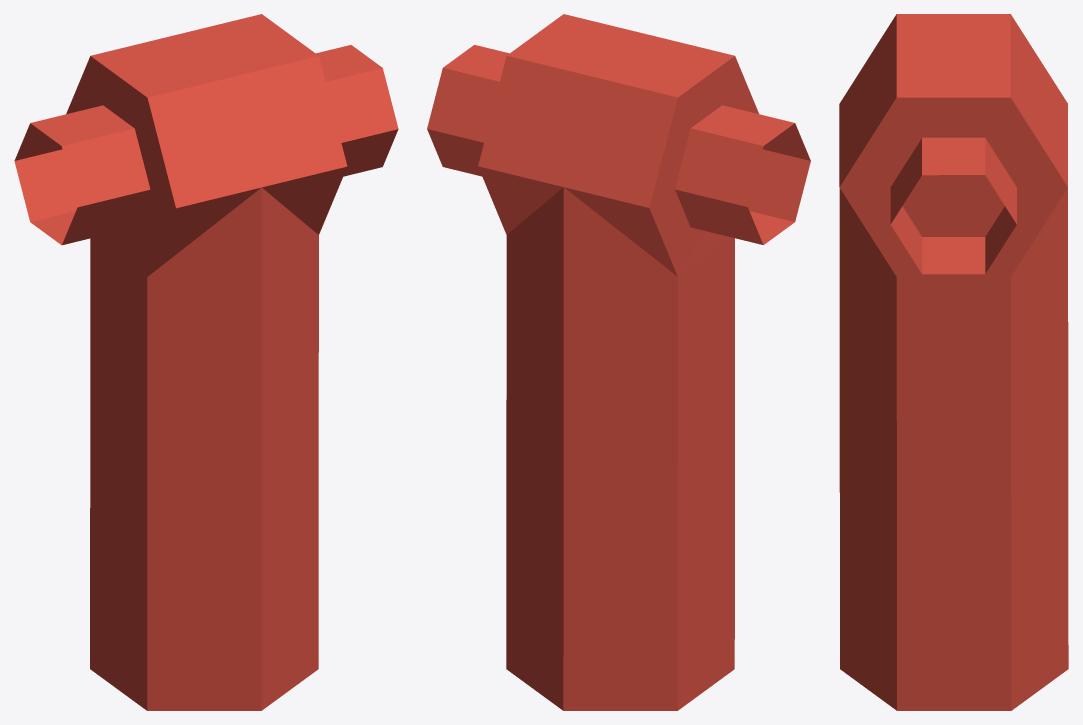
Rendered from SM_Telehandler_Arm_Piston_End_A.fbx.
The picture shows the model from 3 angles, left to right: view 1: azimuth 30°, elevation 25°; view 2: azimuth 150°, elevation 25°; view 3: azimuth 270°, elevation 25°; orthographic projection.
Parts seen in each view (by area): view 1: SM_Telehandler_Arm_Piston_End_A; view 2: SM_Telehandler_Arm_Piston_End_A; view 3: SM_Telehandler_Arm_Piston_End_A.
Part boxes in pixels (x1,y1,x2,y2): SM_Telehandler_Arm_Piston_End_A: (14,14,398,710); SM_Telehandler_Arm_Piston_End_A: (427,14,810,710); SM_Telehandler_Arm_Piston_End_A: (839,14,1068,710).
Bounding box in the file's own units: 17.07 × 27.62 × 50.44.
